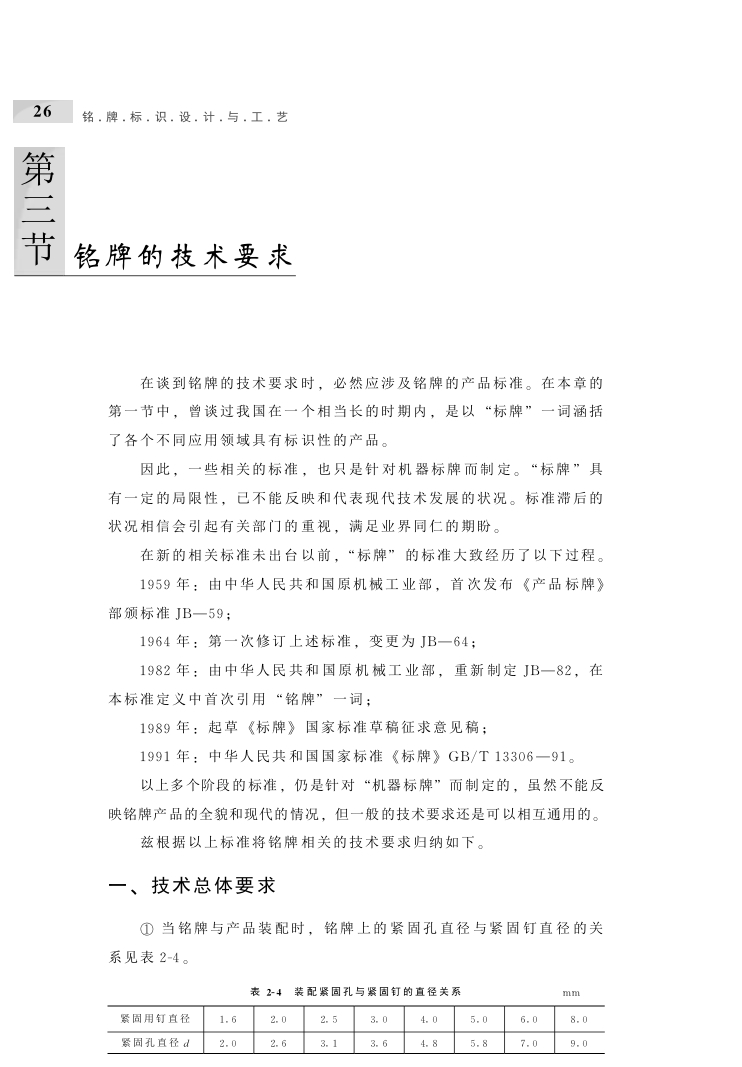table: (107, 1005, 605, 1054)
